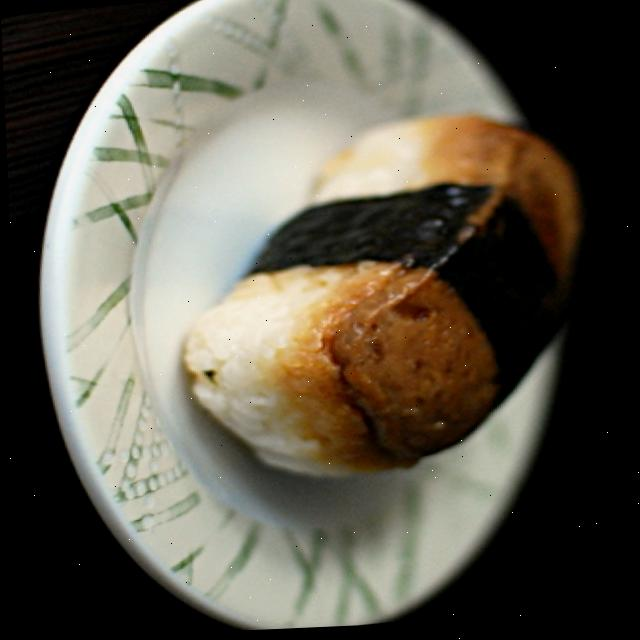寿司卷物: (152, 83, 622, 527)
